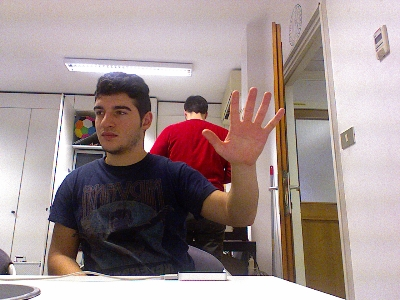布: (200, 86, 287, 166)
